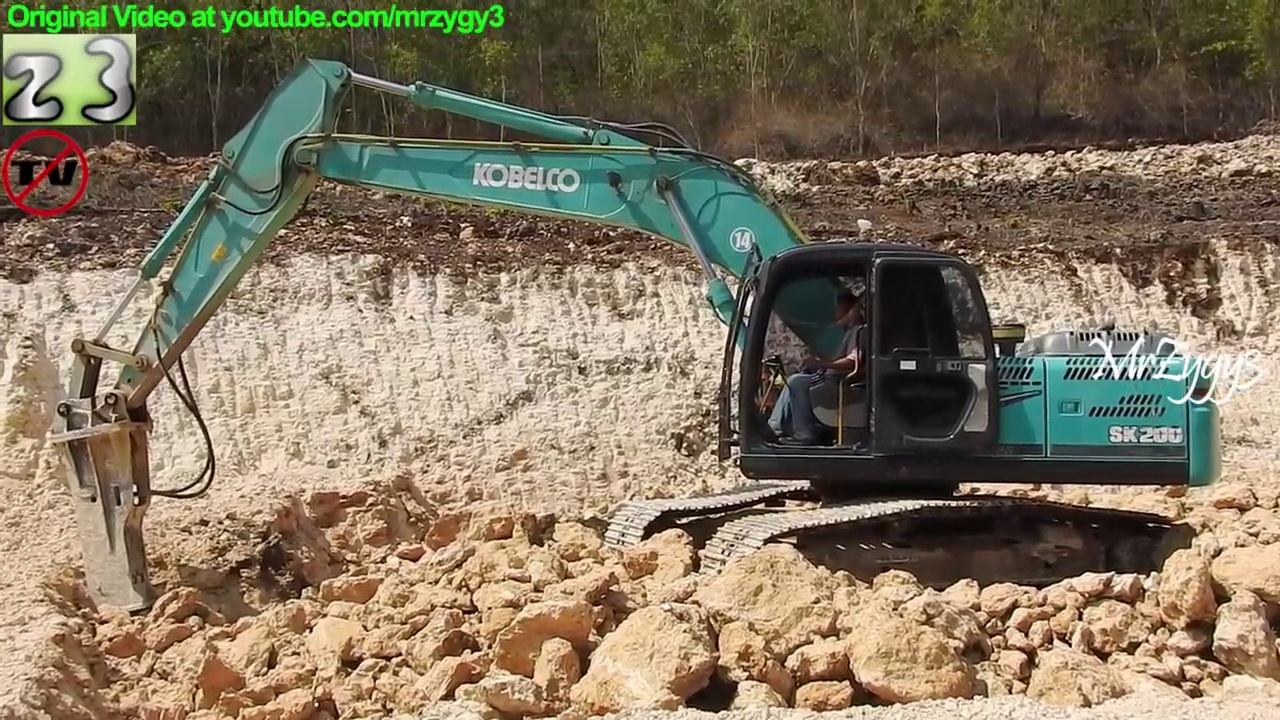excavator breaker: (46, 51, 1227, 627)
